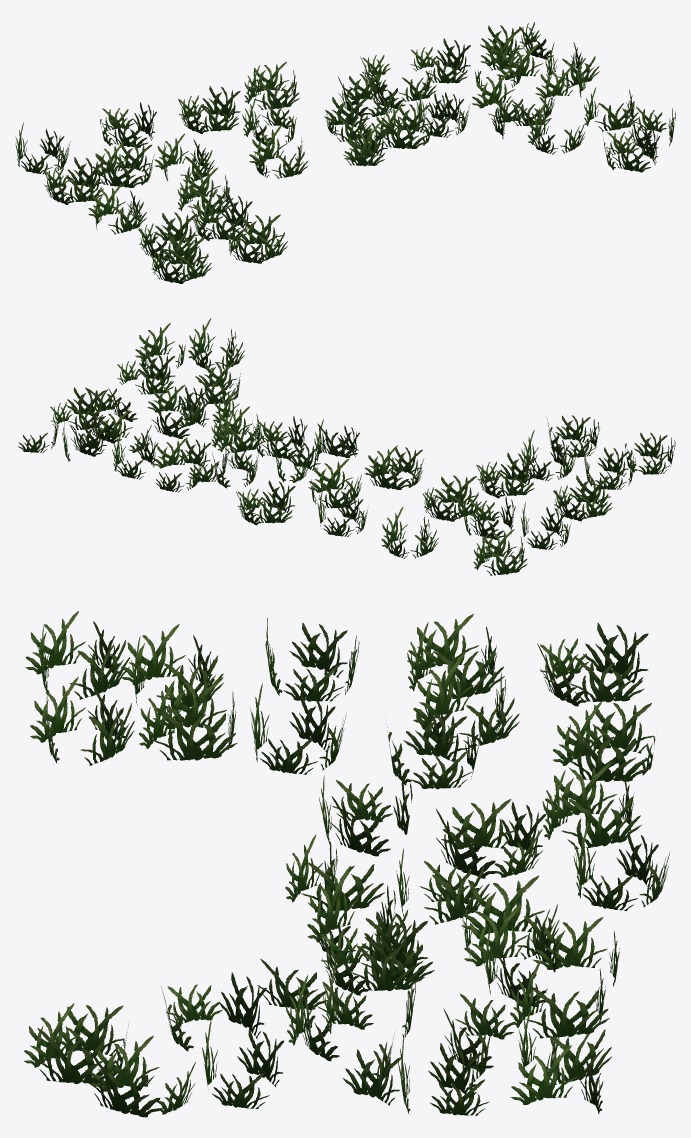
The model's file is TRANS_UDC_ProminentGarden.obj.
The picture shows the model from 3 angles, top to bottom: view 1: azimuth 30°, elevation 25°; view 2: azimuth 150°, elevation 25°; view 3: azimuth 270°, elevation 25°; orthographic projection. The views are drawn at different scales.
Visible parts, largest first — view 1: TRANS_UDC_ProminentGarden; view 2: TRANS_UDC_ProminentGarden; view 3: TRANS_UDC_ProminentGarden.
Boxes of the visible parts, box(x1,y1,x2,y2) form: TRANS_UDC_ProminentGarden: box(15, 22, 675, 283); TRANS_UDC_ProminentGarden: box(18, 318, 675, 575); TRANS_UDC_ProminentGarden: box(24, 611, 670, 1117).
Bounding box in the file's own units: 0.1723 × 0.0101 × 0.1024.
